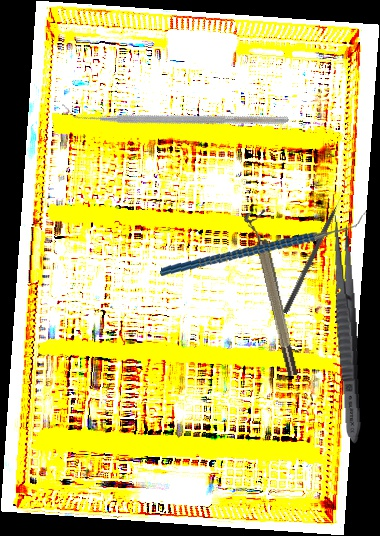Chopper: (61, 8, 290, 217), (160, 189, 367, 297)
Dressing Forceps: (327, 214, 366, 445)
Fixation Ring: (242, 209, 302, 379)
Pusher: (282, 188, 349, 315)
